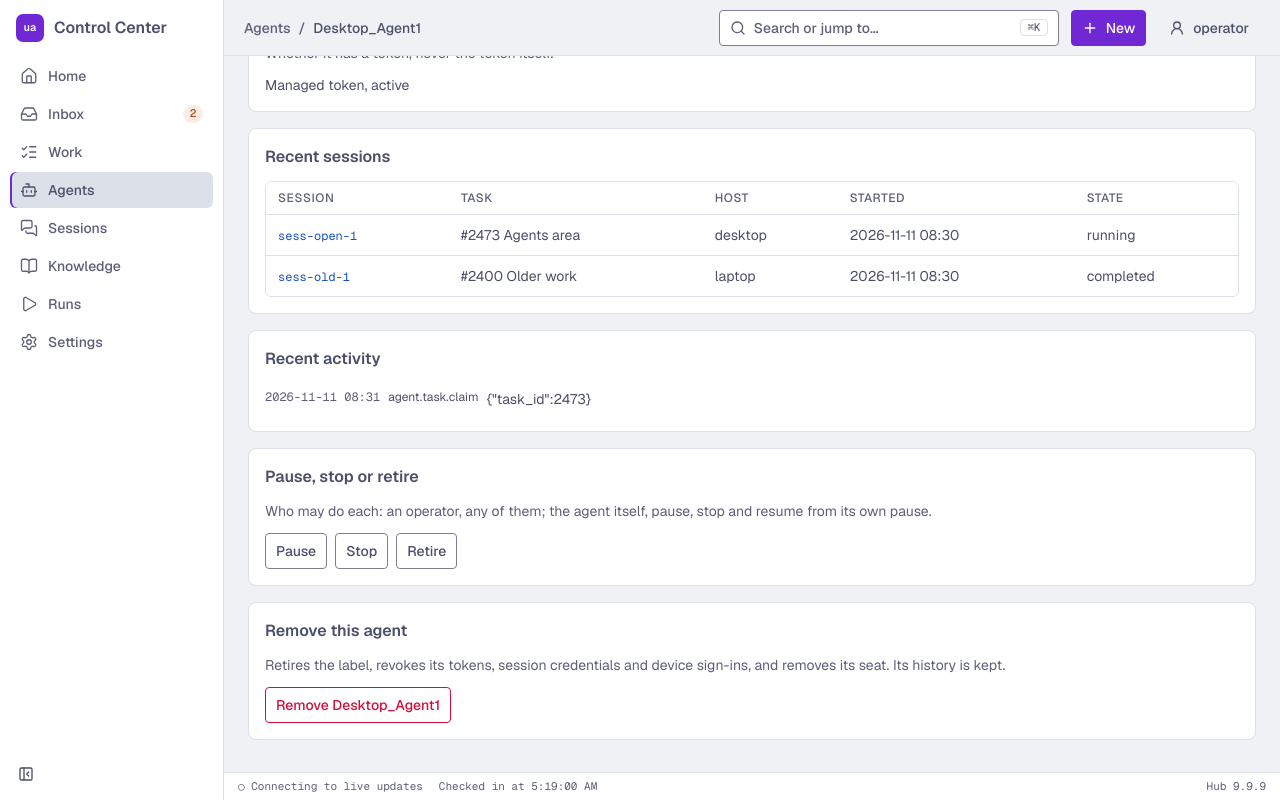
Test: agents: the agent page › removes after a confirm with a reason, sends the body and shows what was revoked
(page scrolled)
Click the button "Remove Desktop_Agent1" at (358, 705), box [265,687,451,723]
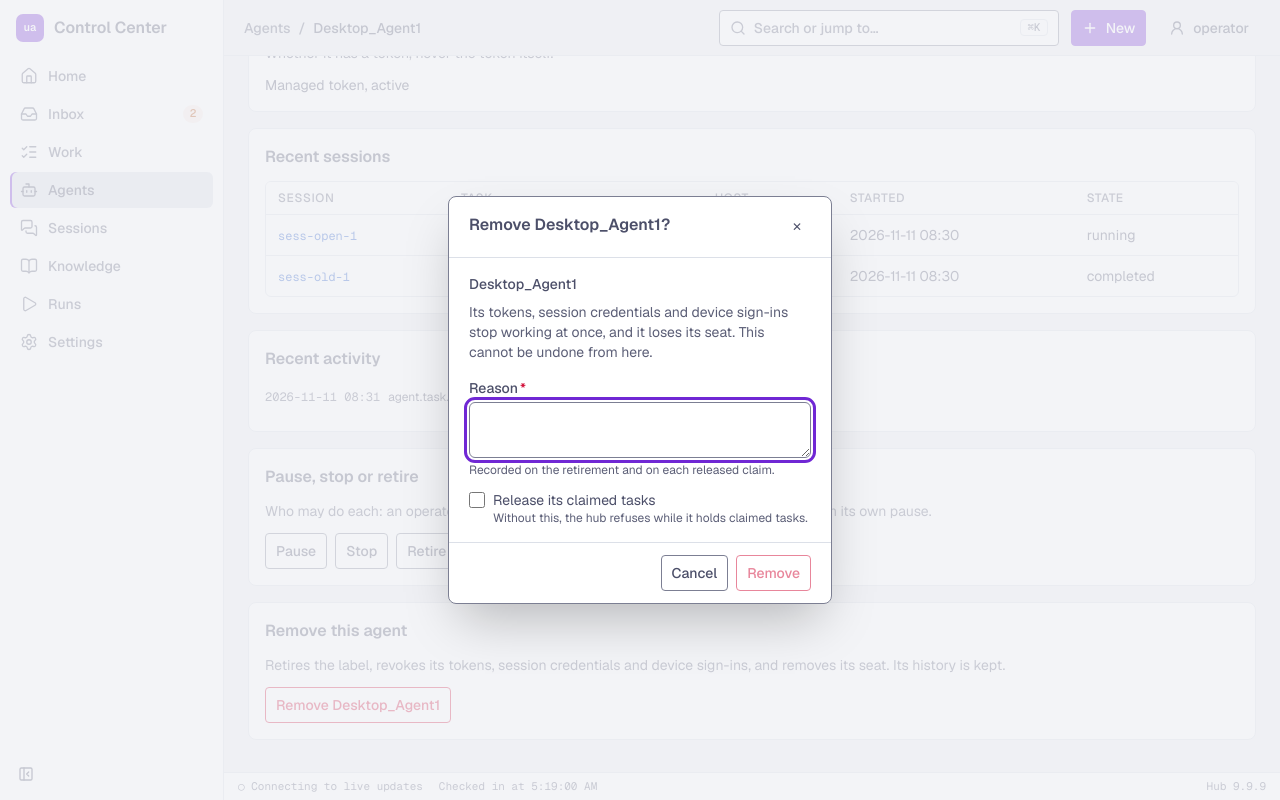
Type "replaced by a new machine" into the text box labelled "Reason*" at (640, 430), box [469,402,811,458]
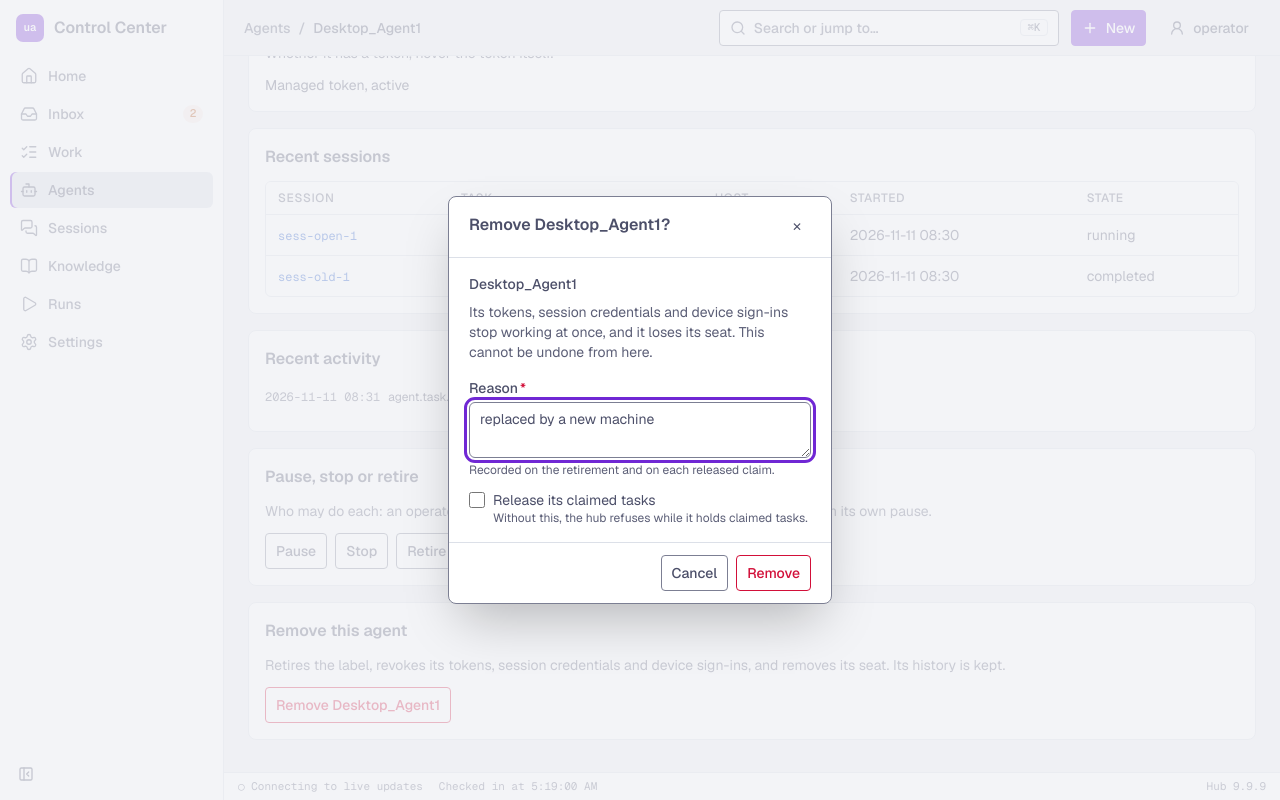
Click the checkbox labelled "Release its claimed tasks" at (477, 500), box [469,492,485,508]
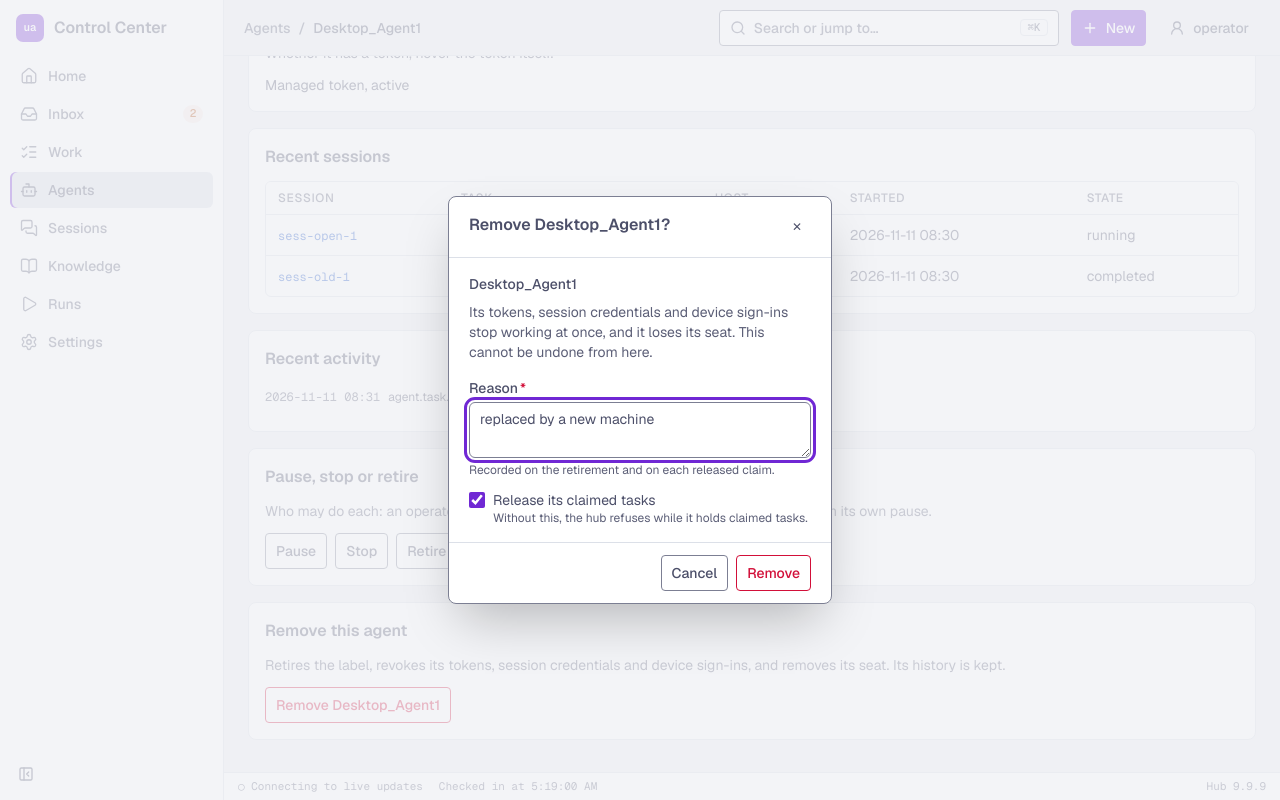
Click the button "Remove" at (774, 573), box [736,555,811,591]
(page scrolled)
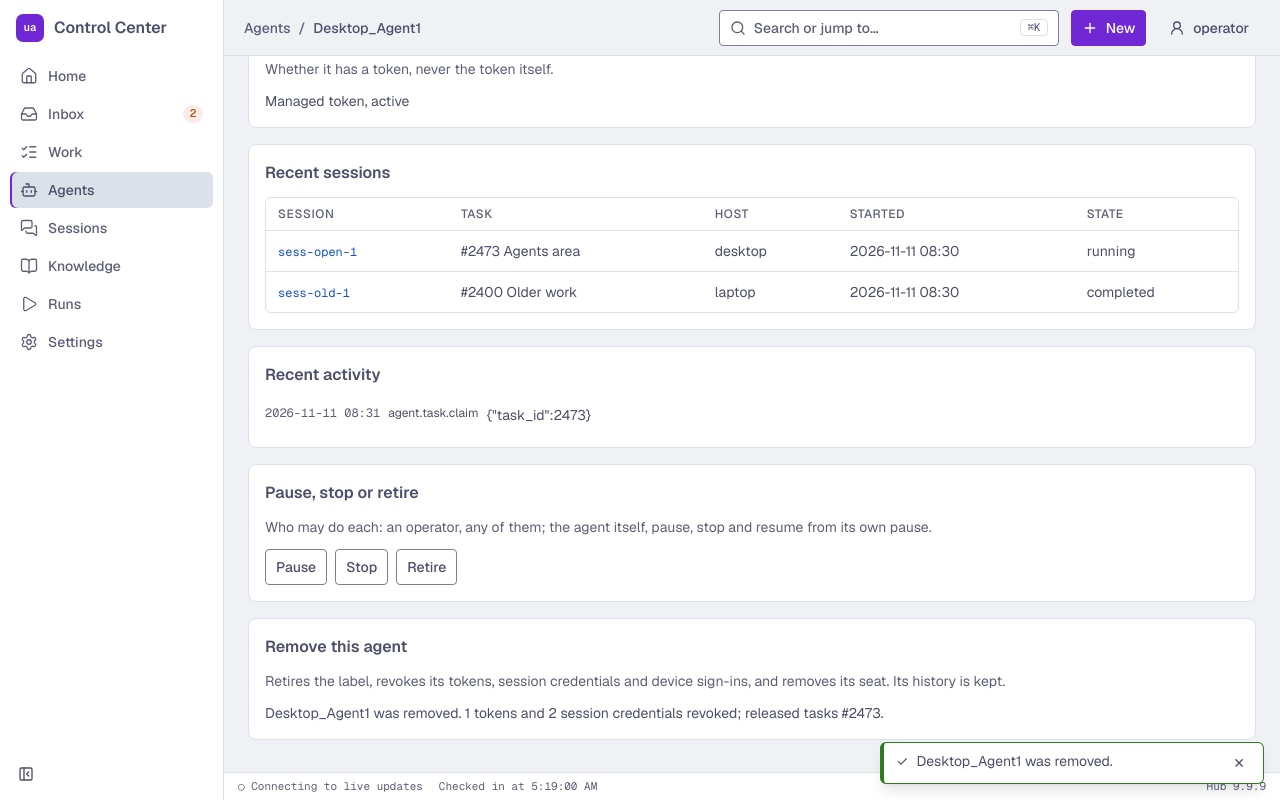
Result: the text "Desktop_Agent1 was removed. 1 tokens and 2 session credentials revoked; released tasks #2473" is shown at [265,704,884,722]
